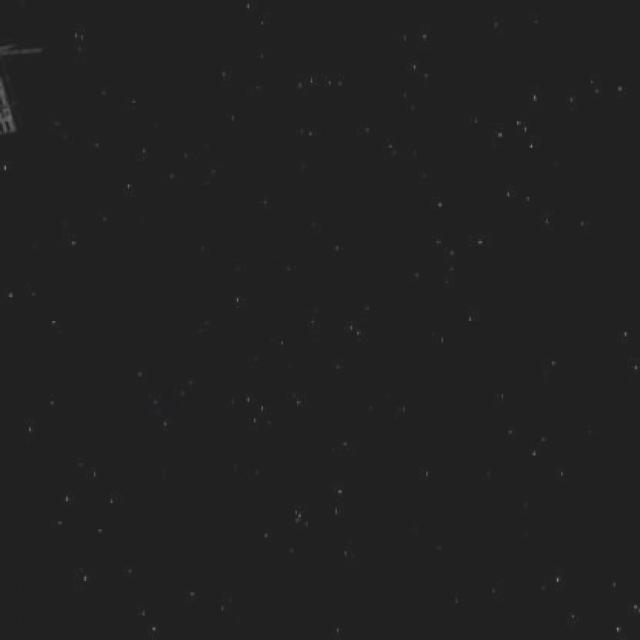satellite: (0, 15, 42, 157)
